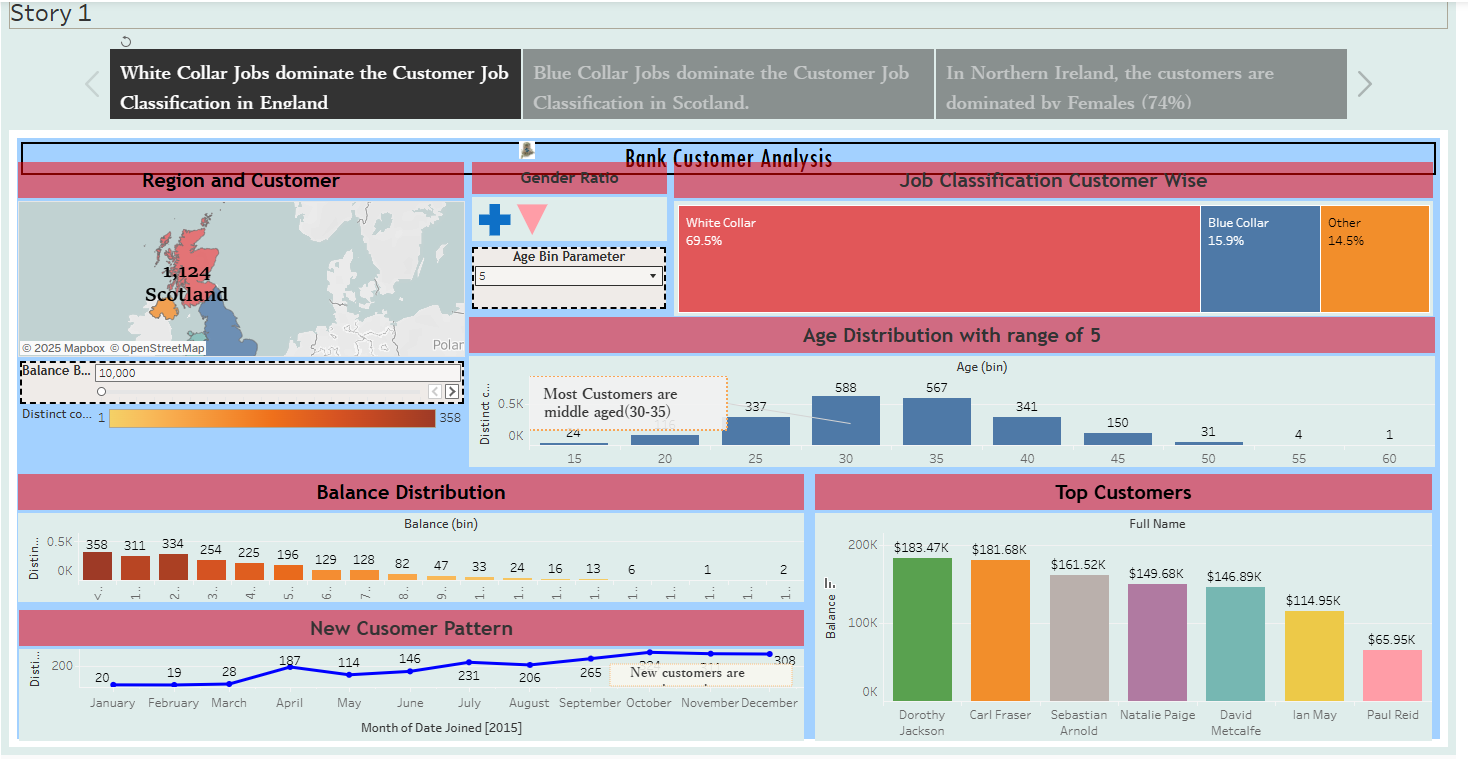

This screenshot's page, from the dashboard's own definition file:
{"tool":"tableau","page":{"name":"Dashboard 1","canvas":[1000,1000],"units":"permille","ordinal":0},"visuals":[{"type":"text","box":[4.7,8.9,990.6,45.8]},{"type":"image","param":"Image/moneybag.jpg","box":[315.2,18.2,89.2,28.6]},{"type":"worksheet","title":"Region and Customer","mark":"Multipolygon","box":[6.4,52.5,310.7,315.9]},{"type":"worksheet","title":"Gender Distribution","mark":"Shape","box":[321.8,52.5,135.2,128.3]},{"type":"worksheet","title":"Job Classification Customer Wise","mark":"Automatic","box":[462.3,52.5,527.2,251.1]},{"type":"parameter","param":"[Parameters].[Age (bin) Parameter]","box":[321.8,189.7,134.6,100.5]},{"type":"worksheet","title":"Age Distribution","mark":"Automatic","rows":["Customer ID"],"cols":["Age (bin)"],"box":[319.5,303.6,671.1,242.2]},{"type":"parameter","param":"[Parameters].[Balance (bin) Parameter]","box":[8,374,308.4,70.1]},{"type":"legend","title":"Balance Distribution","param":"[federated.0nr486x0nt0enj11dynmx0gq46b9].[ctd:Customer ID:qk]","box":[8.8,445,309.2,53.7]},{"type":"worksheet","title":"Balance Distribution","mark":"Automatic","rows":["Customer ID"],"cols":["Balance (bin)"],"box":[6.4,556.9,545.9,209.8]},{"type":"worksheet","title":"Top Customers","mark":"Automatic","rows":["Balance"],"cols":["Calculation_1134062730736029696"],"box":[560,556.9,428.9,433]},{"type":"worksheet","title":"New Cusomer Pattern","mark":"Automatic","rows":["Customer ID"],"cols":["Date Joined"],"box":[7,777.9,545.4,213.2]}]}

Visuals, with their boxes on the dashboard's canvas, which has no fixed pixel size, in thousandths of its width and height (x1, y1, x2, y2). These are canvas units, not pixel positions in the 1468x759 screenshot, which may show the page scaled, cropped or inside an application window:
text: 5 9 995 55
image: 315 18 404 47
"Region and Customer" worksheet (Multipolygon marks): 6 52 317 368
"Gender Distribution" worksheet (Shape marks): 322 52 457 181
"Job Classification Customer Wise" worksheet: 462 52 990 304
parameter: 322 190 456 290
"Age Distribution" worksheet: 320 304 991 546
parameter: 8 374 316 444
"Balance Distribution" legend: 9 445 318 499
"Balance Distribution" worksheet: 6 557 552 767
"Top Customers" worksheet: 560 557 989 990
"New Cusomer Pattern" worksheet: 7 778 552 991
